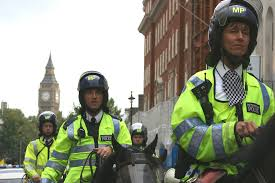helmet: (204, 2, 268, 79), (70, 69, 113, 111)
